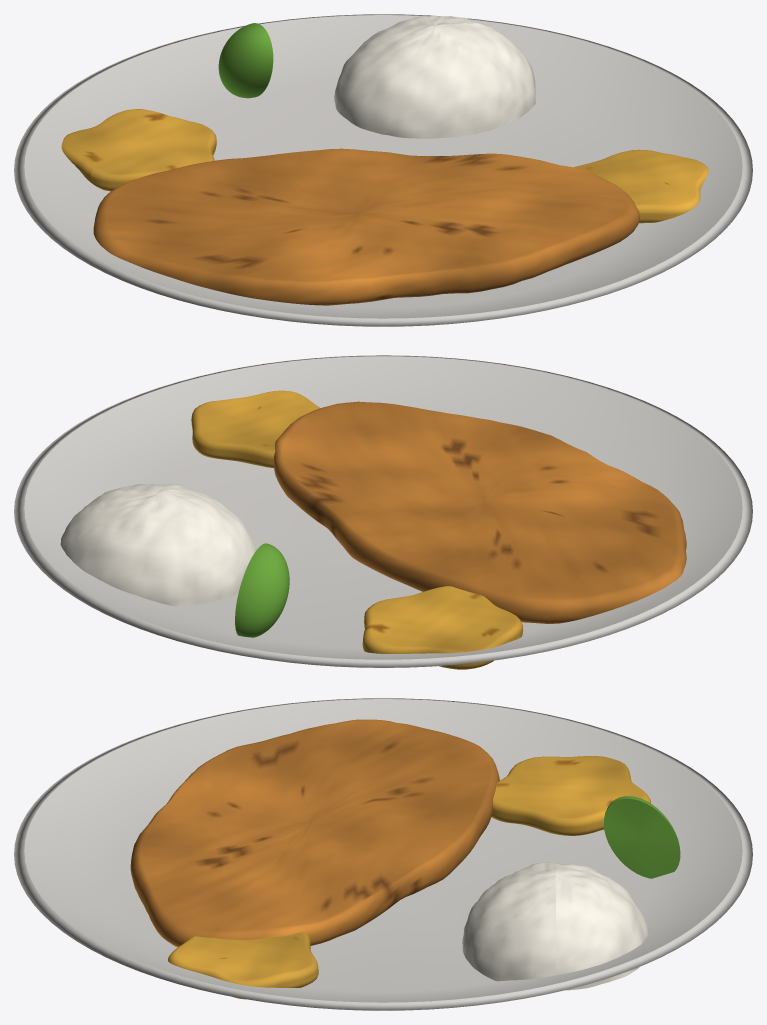
Rendered from chuleta-valluna.glb.
The picture shows the model from 3 angles, top to bottom: view 1: azimuth 30°, elevation 25°; view 2: azimuth 150°, elevation 25°; view 3: azimuth 270°, elevation 25°; orthographic projection.
Parts seen in each view (by area): view 1: plato, chuleta, arroz, patacones, limon; view 2: plato, chuleta, arroz, patacones, limon; view 3: plato, chuleta, arroz, patacones, limon.
Part boxes in pixels (x1,y1,x2,y2): plato: (14,14,752,326); chuleta: (93,148,639,305); arroz: (334,15,535,138); patacones: (61,109,708,223); limon: (218,23,273,98); plato: (14,355,752,667); chuleta: (273,401,686,623); arroz: (60,484,256,606); patacones: (191,390,523,669); limon: (235,543,289,637); plato: (14,698,752,1010); chuleta: (130,719,499,947); arroz: (462,862,648,990); patacones: (168,756,650,999); limon: (603,796,680,878).
Size of the model in its own units: 0.3 by 0.0424 by 0.3.
